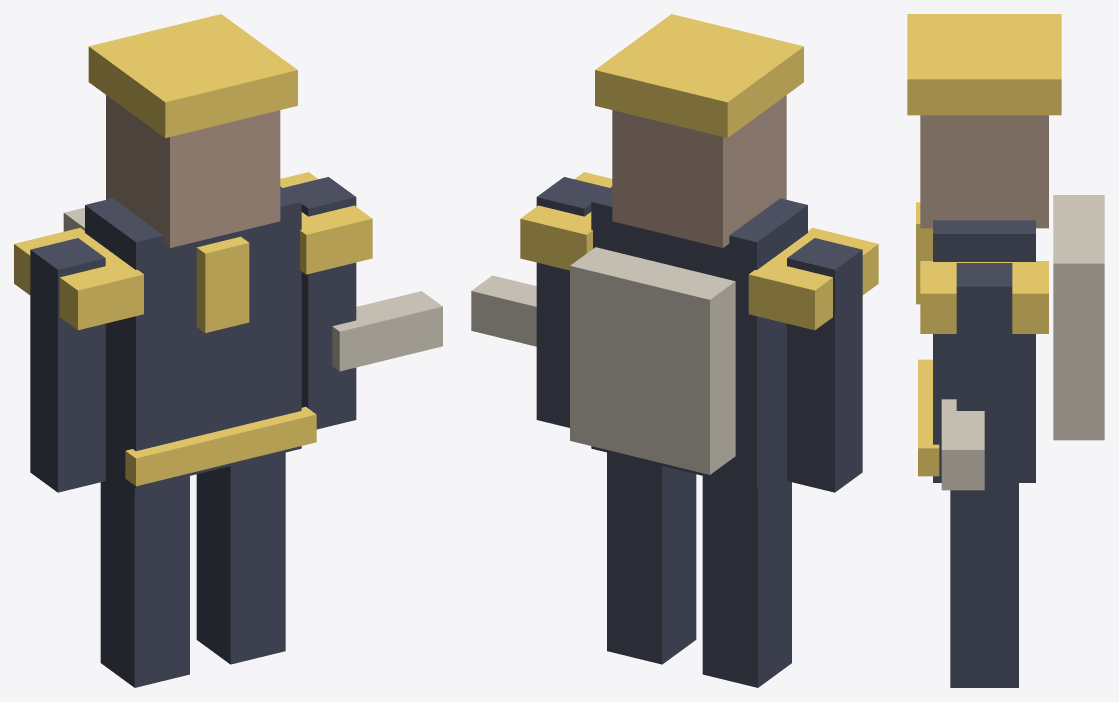
Rendered from 13_ren_latchward_tamer_from_black_market.glb.
The picture shows the model from 3 angles, left to right: view 1: azimuth 30°, elevation 25°; view 2: azimuth 150°, elevation 25°; view 3: azimuth 270°, elevation 25°; orthographic projection.
Parts seen in each view (by area): view 1: Ren Latchward, Tamer from Black-Market; view 2: Ren Latchward, Tamer from Black-Market; view 3: Ren Latchward, Tamer from Black-Market.
Boxes of the visible parts, x1=… form: Ren Latchward, Tamer from Black-Market: x1=14, y1=14, x2=442, y2=687; Ren Latchward, Tamer from Black-Market: x1=471, y1=14, x2=878, y2=687; Ren Latchward, Tamer from Black-Market: x1=907, y1=14, x2=1104, y2=687.
Size of the model in its own units: 0.9646 by 1.46 by 0.4329.
